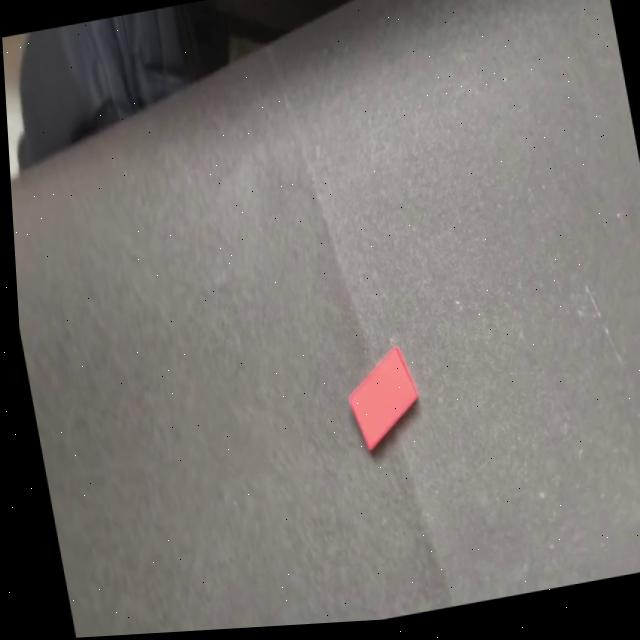red block: (337, 343, 427, 456)
